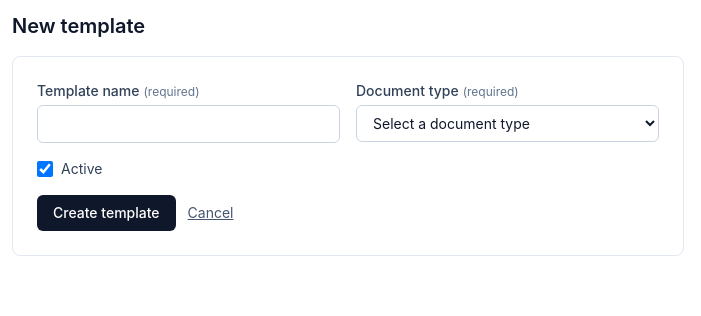
TemplateCreatePage › shows the duplicate-template validation message from the backend
Step 1. Type "Standard Invoice" into the field labelled "Template name(required)" → {"x": 188, "y": 124}, box [37,105,340,143]
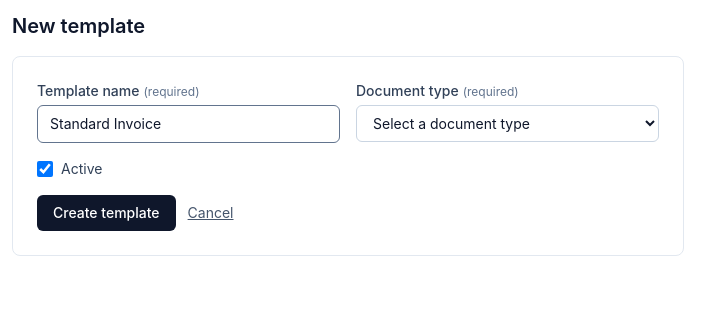
Step 2. Select "Invoice" in the dropdown labelled "Document type(required)" → {"x": 508, "y": 124}, box [356,105,659,142]
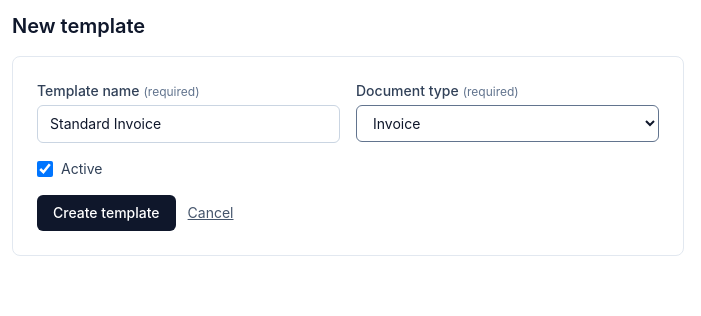
Step 3. Click the button "Create template" → {"x": 106, "y": 213}, box [37,195,176,231]
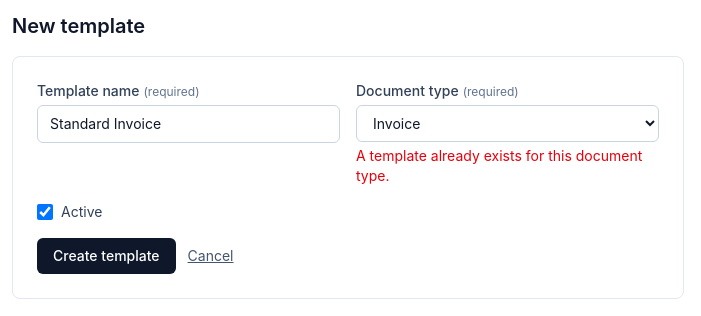
Result: the text "A template already exists for this document type." is shown at [356,146,659,186]
